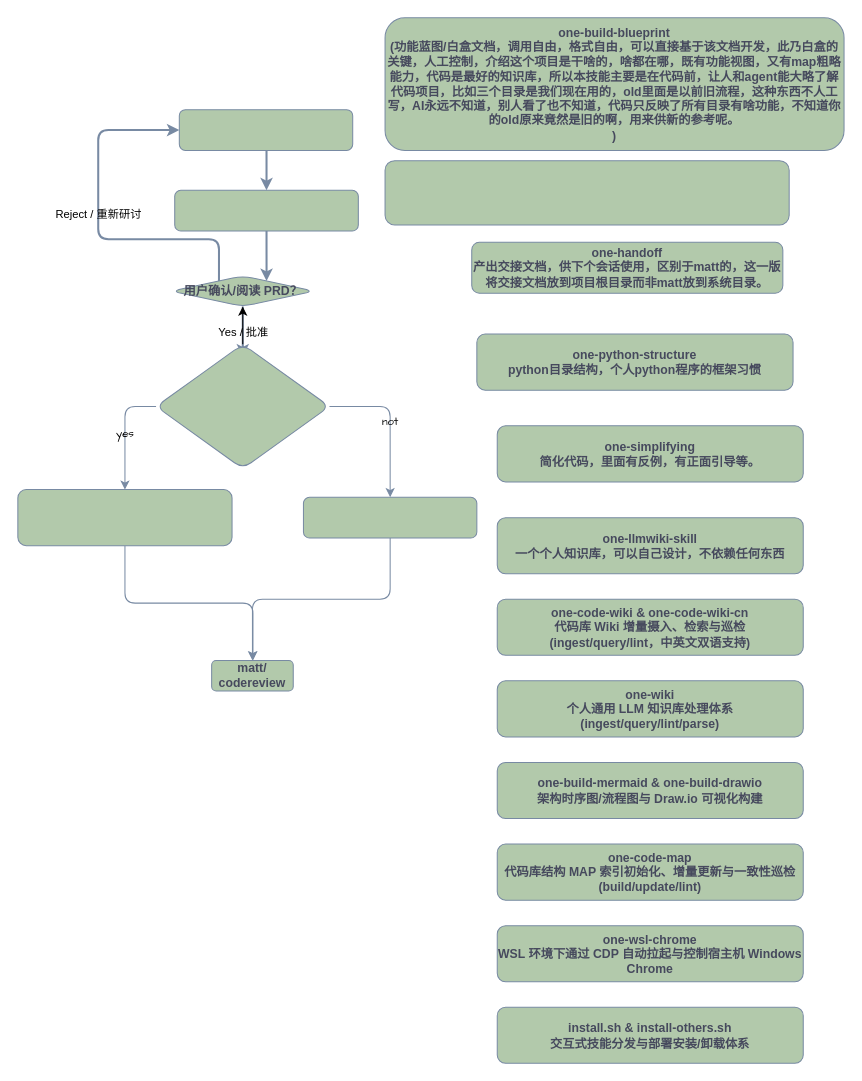
This 862x1081 diagram has some shape labels left out. Here are the shapes that lost their labels. From the top down, the centre of each, then its label:
point 265,129: one-grill-with-docs-prd (交互式需求 Grilling 与分析)
point 266,210: 产出文档 (CONTEXT.md / ADR / PRD)
point 586,192: map系统 (地图/，项目结构与上下文视图) 这个完全由AI出的，和代码本质上是一样的，llm直接看代码就够了，因此暂时不用这个。如果要用，就用graphify
point 242,406: one-implement 实施 是否refactor
point 124,517: one-refactor-implement 让llm使用复制粘贴方式写代码，防止模型自己理解代码重新写出一个怪物出来
point 389,517: one-minimal-implement 让llm最小化实施，别乱加戏
